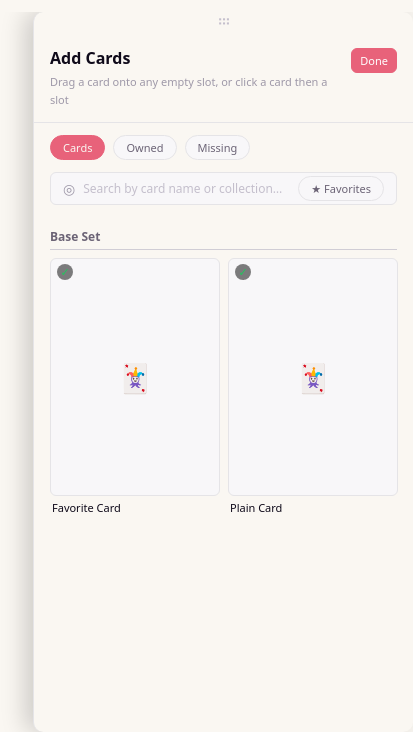
Test: AddCardsPanel — Favorites filter › shows only favorited cards when Favorites is toggled on
The image size is (413, 732).
Click the button "★ Favorites" at {"x": 341, "y": 189}, box [298,176,384,201]
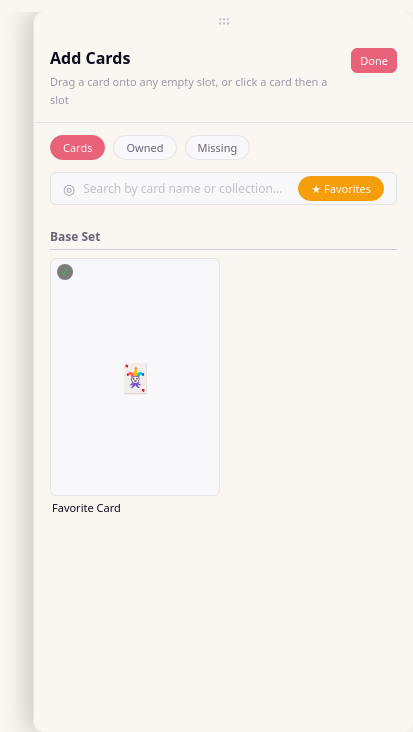
Expected: the text "Favorite Card" is shown, [52,500,121,515]
Now the button "Plain Card" is gone
